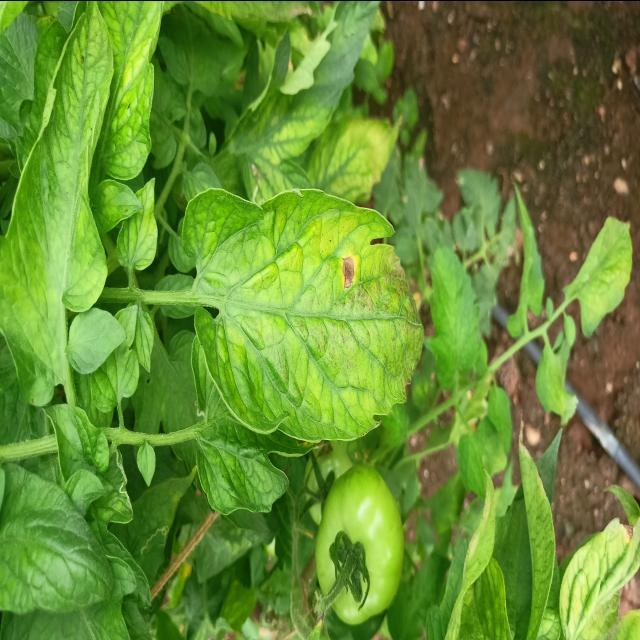Tomato mosaic virus leaf: (184, 182, 432, 448)
